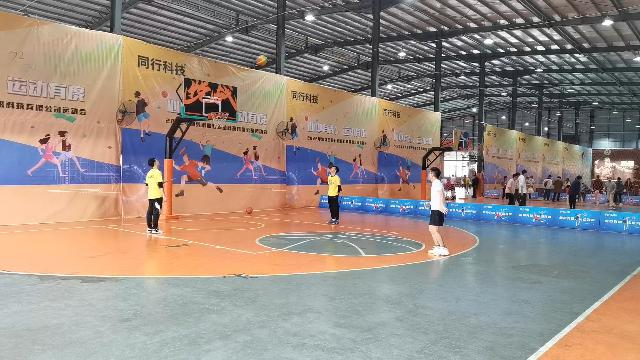ball: (256, 54, 266, 66), (245, 207, 252, 214)
basket: (208, 111, 228, 127)
